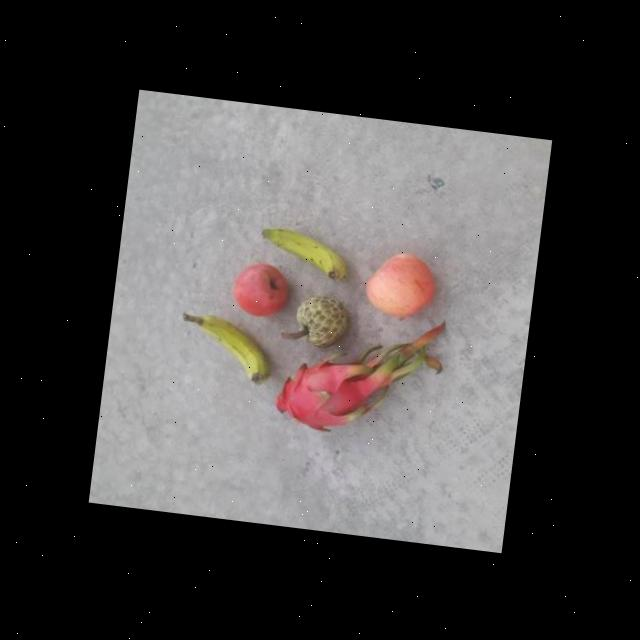Sakya fruit: (292, 292, 351, 352)
apple: (360, 237, 448, 325), (228, 254, 295, 320)
banana: (185, 310, 278, 388), (258, 221, 350, 281)
pitaya: (278, 349, 366, 436)
